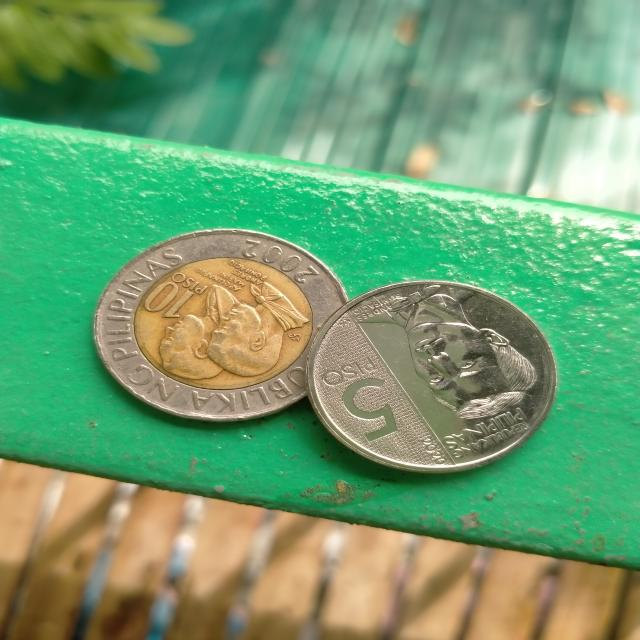10_Old_Front: (118, 241, 332, 408)
5_New_Front: (338, 282, 536, 451)
